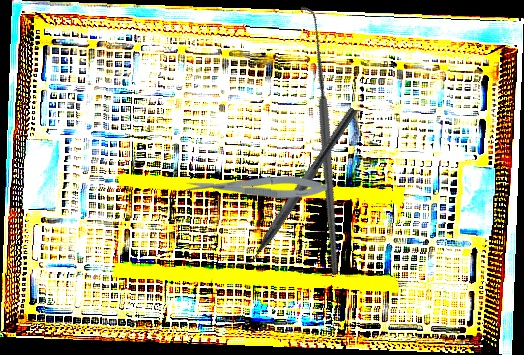Chopper: (229, 99, 359, 280)
Hook Surgical: (202, 5, 437, 276)
Micro Scissor: (185, 171, 328, 201)
